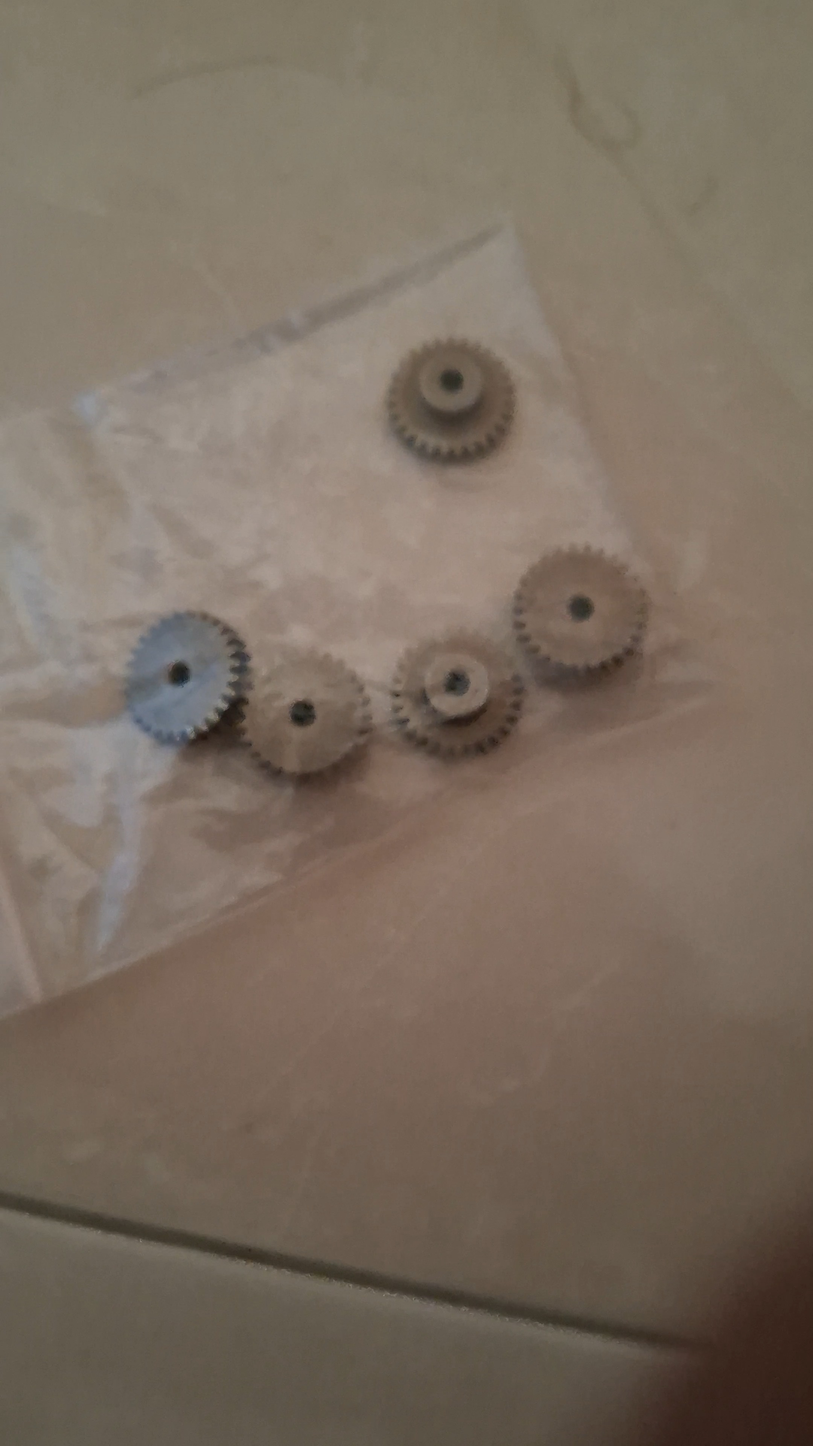spur gear: (240, 649, 371, 776), (513, 548, 647, 672), (391, 632, 523, 757), (125, 612, 250, 743), (387, 340, 514, 461)
